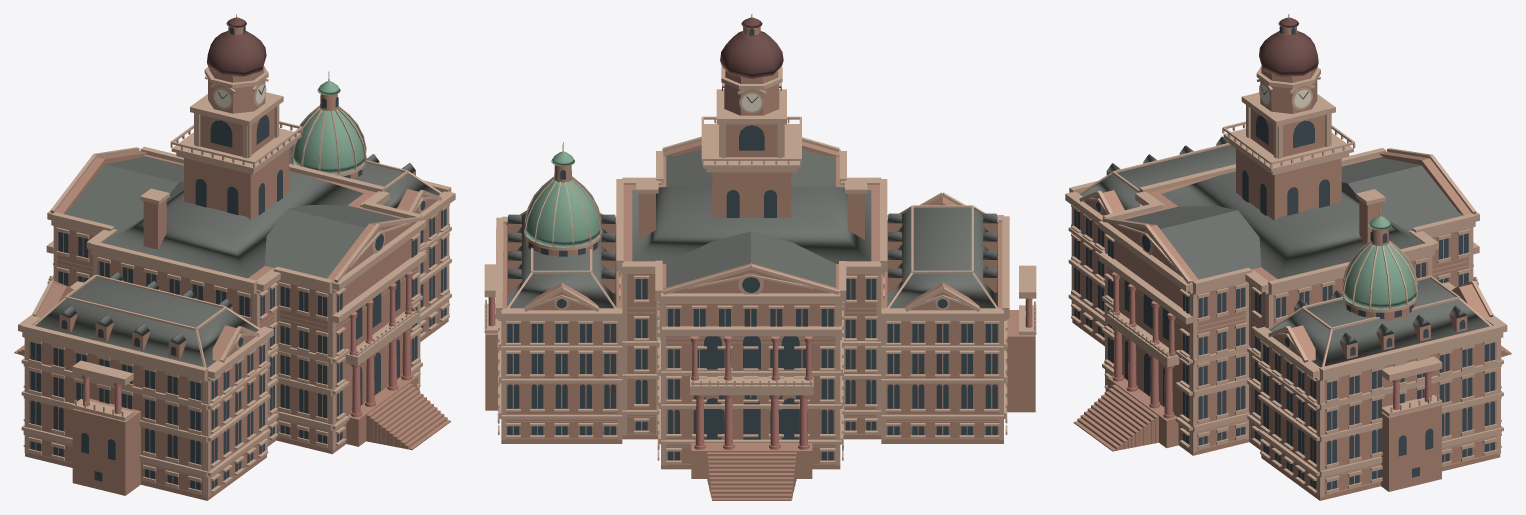
The model's file is tarrant-county-courthouse-near.glb.
3 views of the same model, side by side, from view 1: azimuth 30°, elevation 25°; view 2: azimuth 150°, elevation 25°; view 3: azimuth 270°, elevation 25° (orthographic). The views are drawn at different scales.
Parts seen in each view (by area): view 1: tarrant-county-courthouse-0-stone, tarrant-county-courthouse-0-trim, tarrant-county-courthouse-0-roof, tarrant-county-courthouse-0-glass, tarrant-county-courthouse-0-copper, tarrant-county-courthouse-0-column, tarrant-county-courthouse-0-dome; view 2: tarrant-county-courthouse-0-stone, tarrant-county-courthouse-0-trim, tarrant-county-courthouse-0-roof, tarrant-county-courthouse-0-glass, tarrant-county-courthouse-0-copper, tarrant-county-courthouse-0-column, tarrant-county-courthouse-0-dome; view 3: tarrant-county-courthouse-0-stone, tarrant-county-courthouse-0-trim, tarrant-county-courthouse-0-roof, tarrant-county-courthouse-0-glass, tarrant-county-courthouse-0-copper, tarrant-county-courthouse-0-column, tarrant-county-courthouse-0-dome.
Part boxes in pixels (x1=…): tarrant-county-courthouse-0-stone: x1=14, y1=26, x2=450, y2=500; tarrant-county-courthouse-0-trim: x1=18, y1=14, x2=455, y2=497; tarrant-county-courthouse-0-roof: x1=36, y1=146, x2=439, y2=367; tarrant-county-courthouse-0-glass: x1=30, y1=26, x2=446, y2=490; tarrant-county-courthouse-0-copper: x1=292, y1=81, x2=365, y2=173; tarrant-county-courthouse-0-column: x1=81, y1=271, x2=412, y2=419; tarrant-county-courthouse-0-dome: x1=207, y1=17, x2=266, y2=98; tarrant-county-courthouse-0-stone: x1=485, y1=26, x2=1035, y2=500; tarrant-county-courthouse-0-trim: x1=484, y1=14, x2=1036, y2=465; tarrant-county-courthouse-0-roof: x1=507, y1=149, x2=997, y2=308; tarrant-county-courthouse-0-glass: x1=507, y1=28, x2=997, y2=460; tarrant-county-courthouse-0-copper: x1=525, y1=151, x2=601, y2=246; tarrant-county-courthouse-0-column: x1=488, y1=297, x2=1032, y2=449; tarrant-county-courthouse-0-dome: x1=720, y1=17, x2=783, y2=102; tarrant-county-courthouse-0-stone: x1=1072, y1=26, x2=1511, y2=500; tarrant-county-courthouse-0-trim: x1=1065, y1=14, x2=1507, y2=497; tarrant-county-courthouse-0-roof: x1=1081, y1=136, x2=1489, y2=367; tarrant-county-courthouse-0-glass: x1=1074, y1=26, x2=1494, y2=490; tarrant-county-courthouse-0-copper: x1=1343, y1=216, x2=1417, y2=308; tarrant-county-courthouse-0-column: x1=1112, y1=272, x2=1432, y2=418; tarrant-county-courthouse-0-dome: x1=1259, y1=17, x2=1318, y2=99.
Size of the model in its own units: 76.55 by 59 by 63.57.
